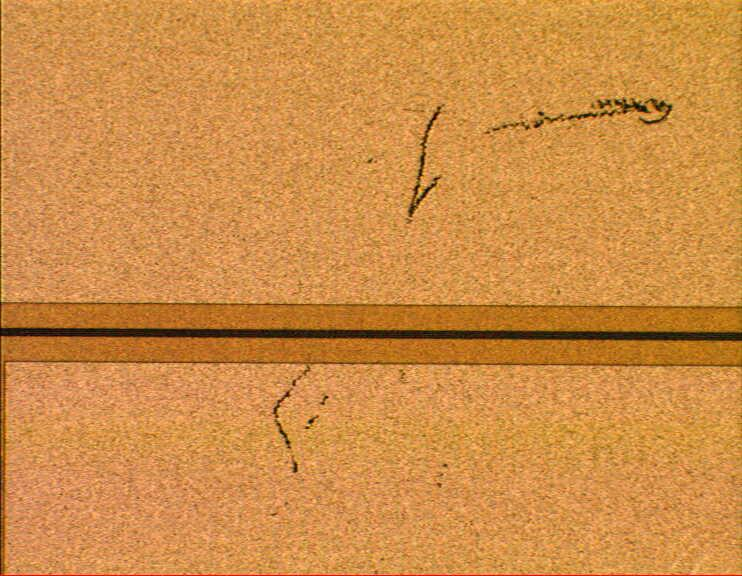SCRATCH: (265, 97, 688, 524)
